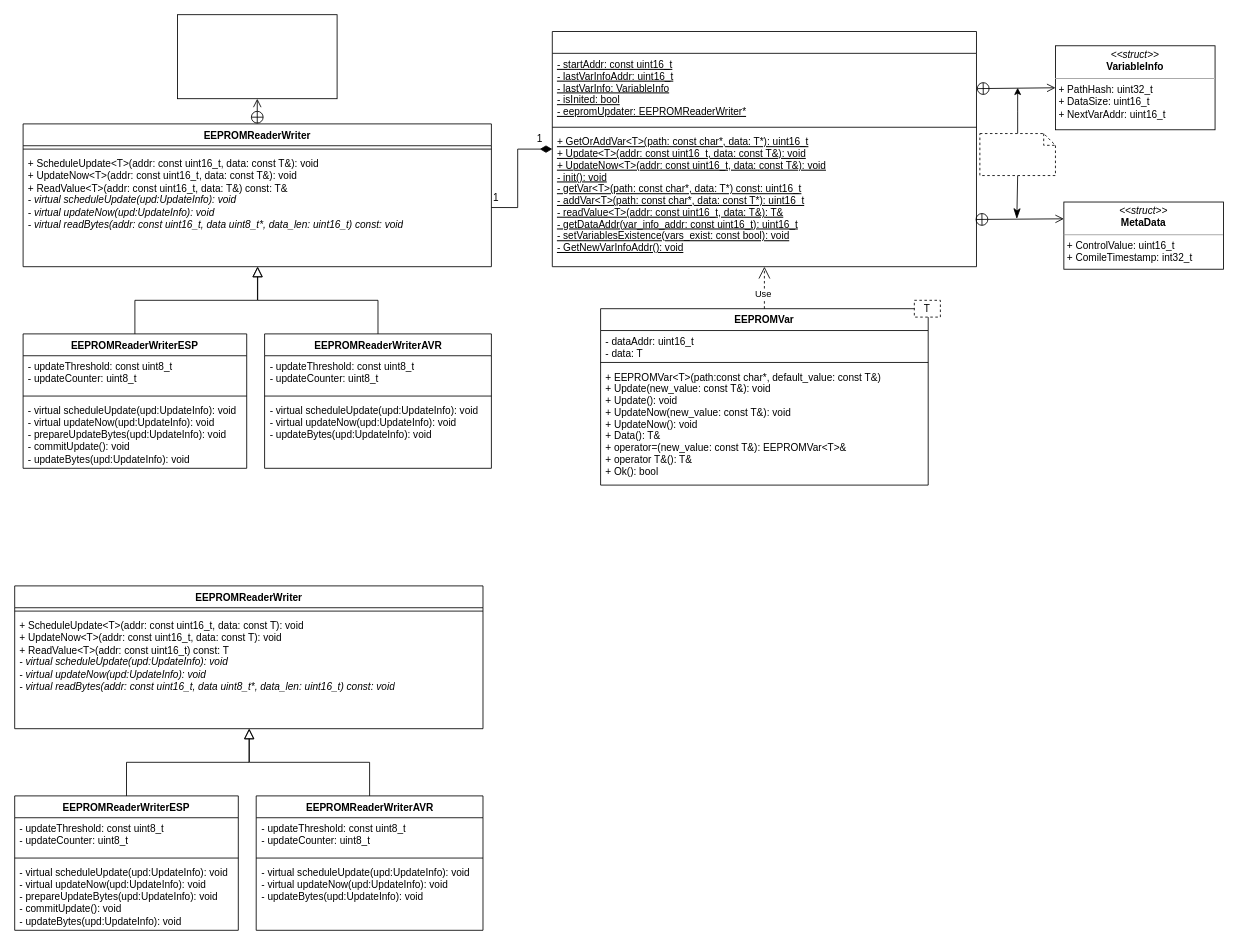
Some shapes in this 1238 by 948 pixel diagram are drawn without their labels. Here are the shapes that lost their labels. From the top down, the box of each, then its label:
(177, 14, 337, 99): <<struct>> UpdateInfo + Addr: uint16_t + Data: uint8_t* + Size: uint16_t
(551, 31, 976, 267): EEPROManager
(979, 133, 1055, 176): Приватная вложенная структура
